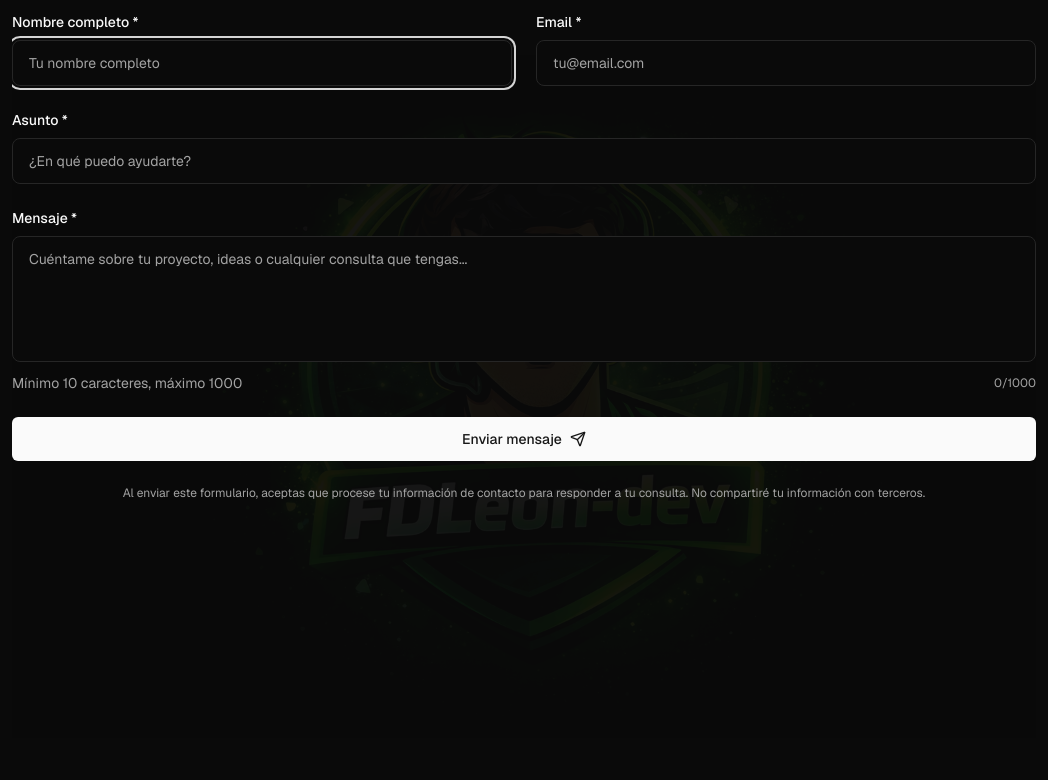
Test case: ContactForm › validates minimum length for message
In the text box labelled "Mensaje *": (524, 299) [12,236,1036,362], type "Short"
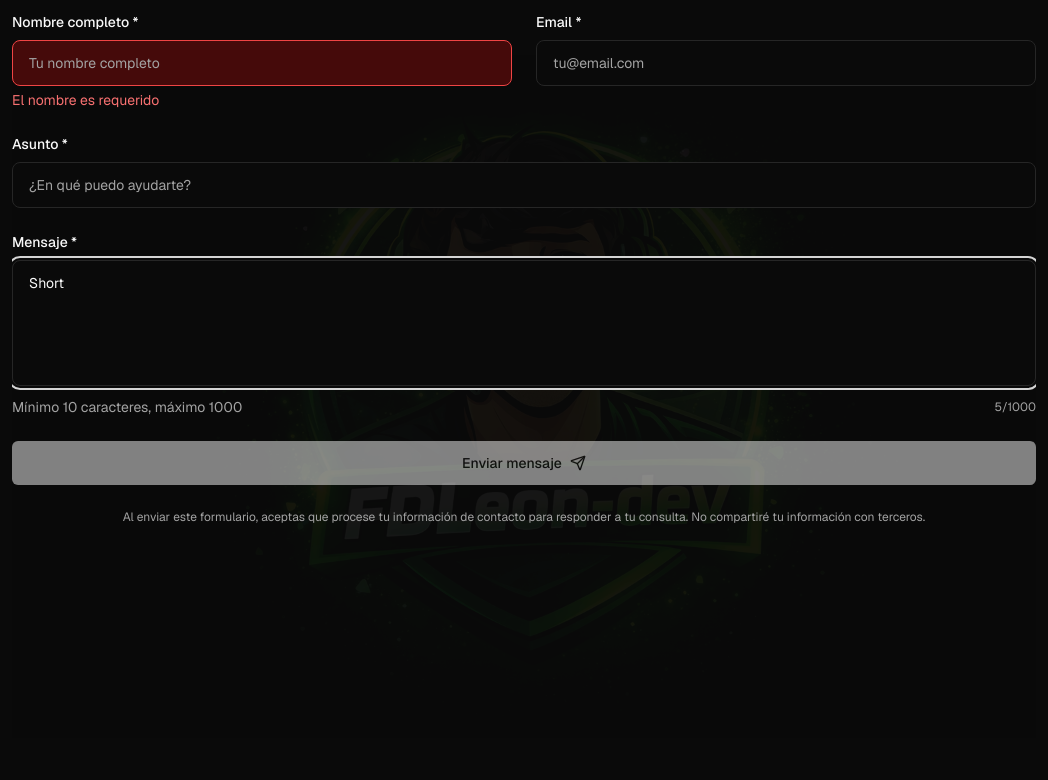
Leave the text box labelled "Mensaje *", box [12,260,1036,386]
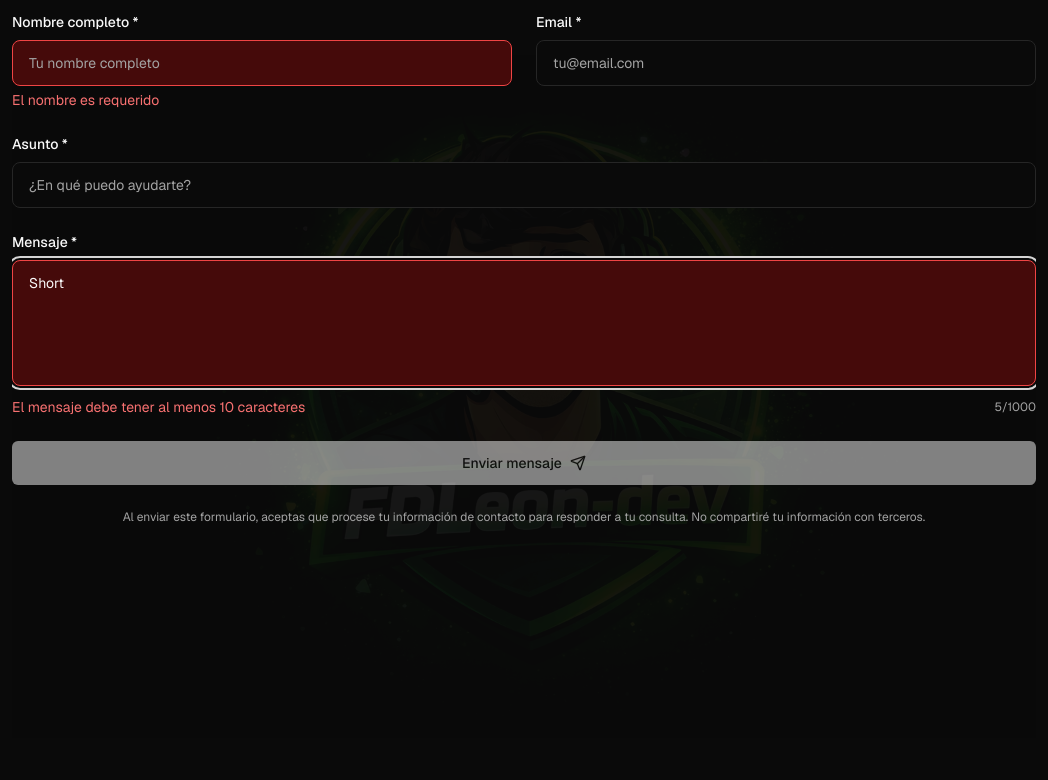
expect the text "El mensaje debe tener al menos 10 caracteres" is shown: met, box [12,397,305,417]
